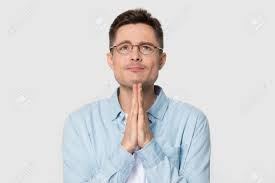white_male: (111, 28, 165, 91)
